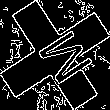M_SW: (21, 22, 89, 88)
